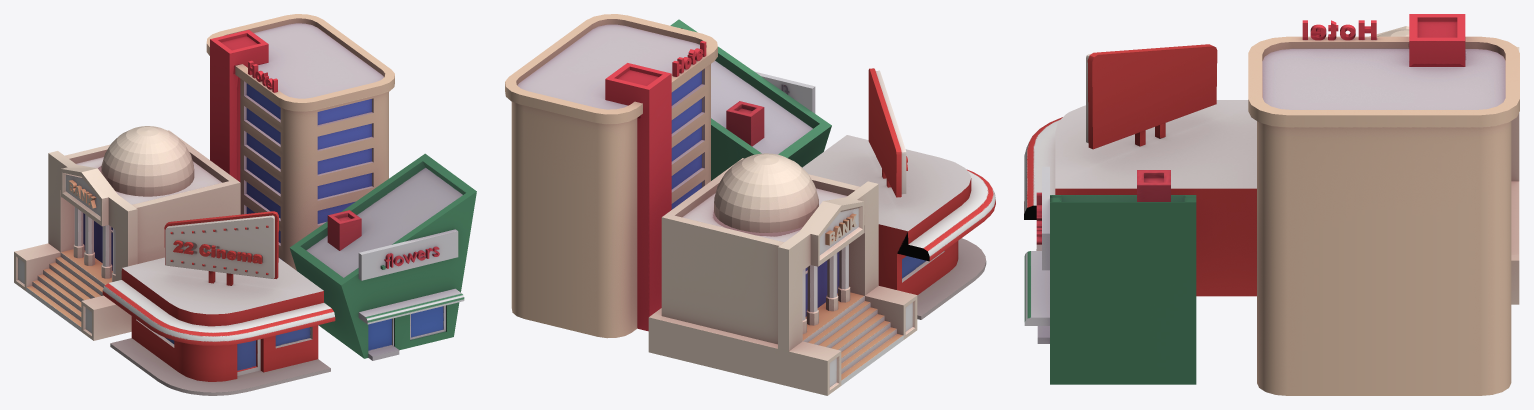
File: city.fbx
The picture shows the model from 3 angles, left to right: view 1: azimuth 30°, elevation 25°; view 2: azimuth 150°, elevation 25°; view 3: azimuth 270°, elevation 25°; orthographic projection. The views are drawn at different scales.
Parts seen in each view (by area): view 1: Plane.001, Plane.002, Plane.003, Plane; view 2: Plane.001, Plane.003, Plane.002, Plane; view 3: Plane.001, Plane.002, Plane, Plane.003.
Boxes of the visible parts, x1,y1,x2,y2 form: Plane.001: (206, 14, 394, 270); Plane.002: (102, 211, 335, 395); Plane.003: (14, 126, 240, 340); Plane: (290, 153, 476, 360); Plane.001: (505, 14, 717, 338); Plane.003: (648, 153, 917, 395); Plane.002: (802, 68, 995, 319); Plane: (670, 19, 831, 180); Plane.001: (1248, 14, 1519, 395); Plane.002: (1024, 44, 1256, 296); Plane: (1024, 166, 1196, 384); Plane.003: (1369, 26, 1519, 304).
Bounding box in the file's own units: 356 × 245 × 362.
